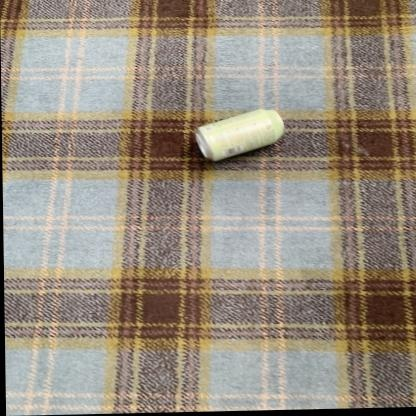trash: (196, 109, 283, 160)
